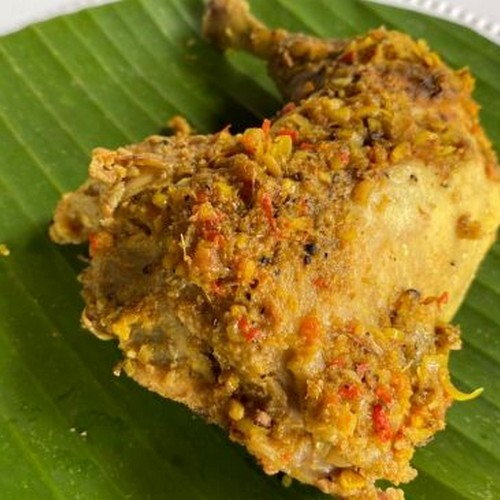ayam betutu: (89, 30, 489, 482)
